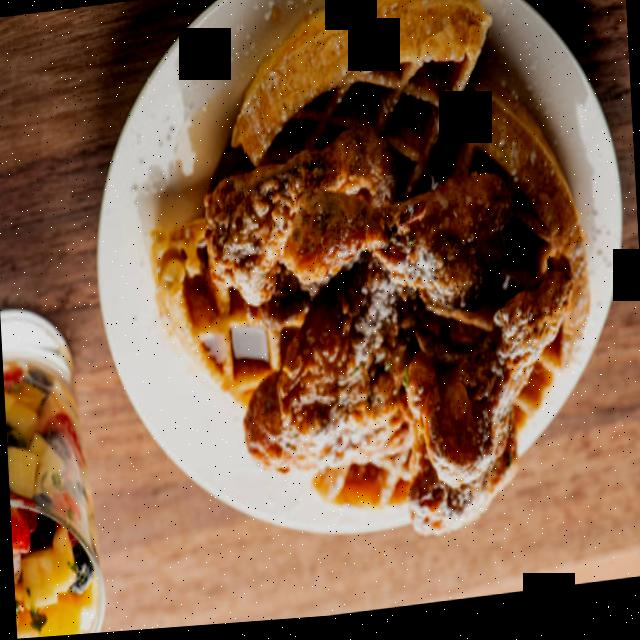Frango: (140, 0, 600, 565)
